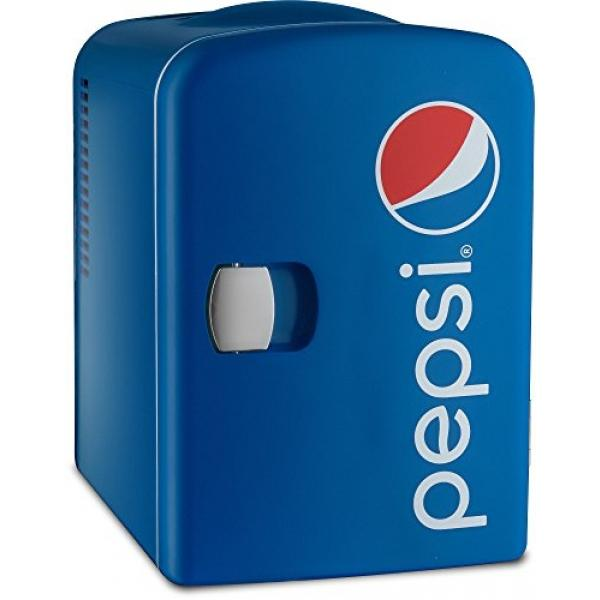pepsi: (376, 98, 501, 233)
